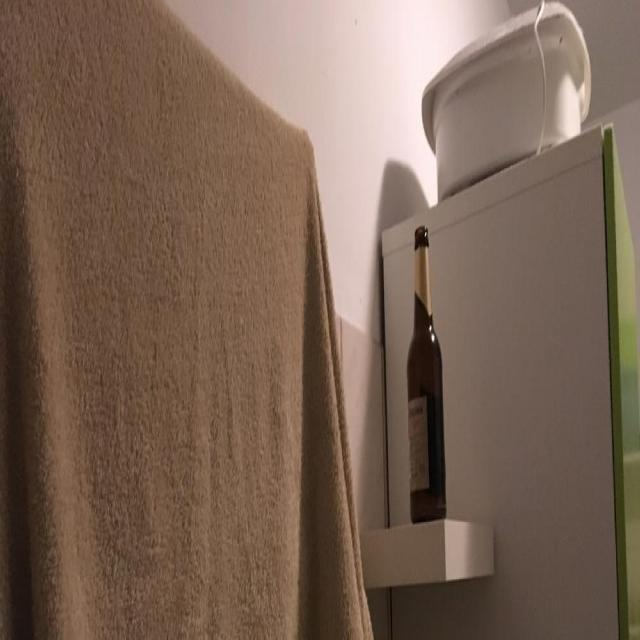bottle-glass: (405, 223, 448, 525)
